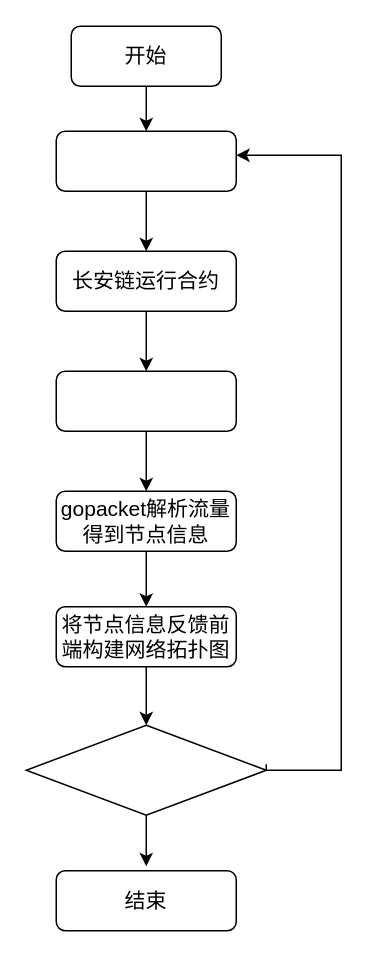
Image size: 380x957. Some labels were removed from this diagram. Here are the shapes that lost their labels. From the top down, the centre of each, then its label:
At [145,160]: "从队列中取出测试任务".
At [145,400]: "tcpdump抓取特定端口流量".
At [145,769]: "队列是否为空".
